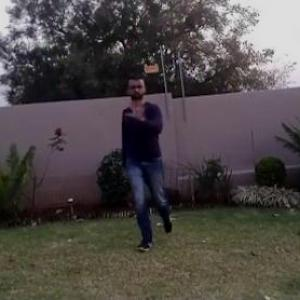follow_hand: (122, 96, 149, 123)
